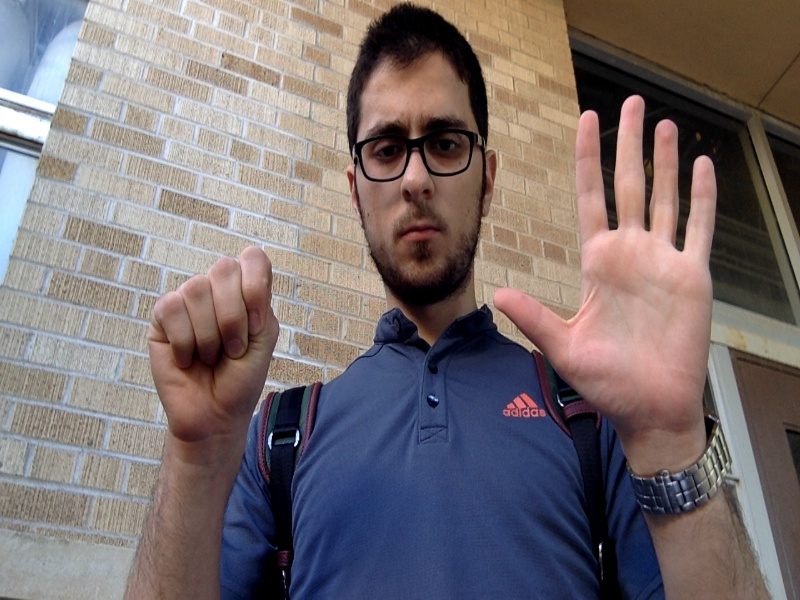0-hand: (149, 247, 280, 441)
5-hand: (492, 96, 716, 428)
